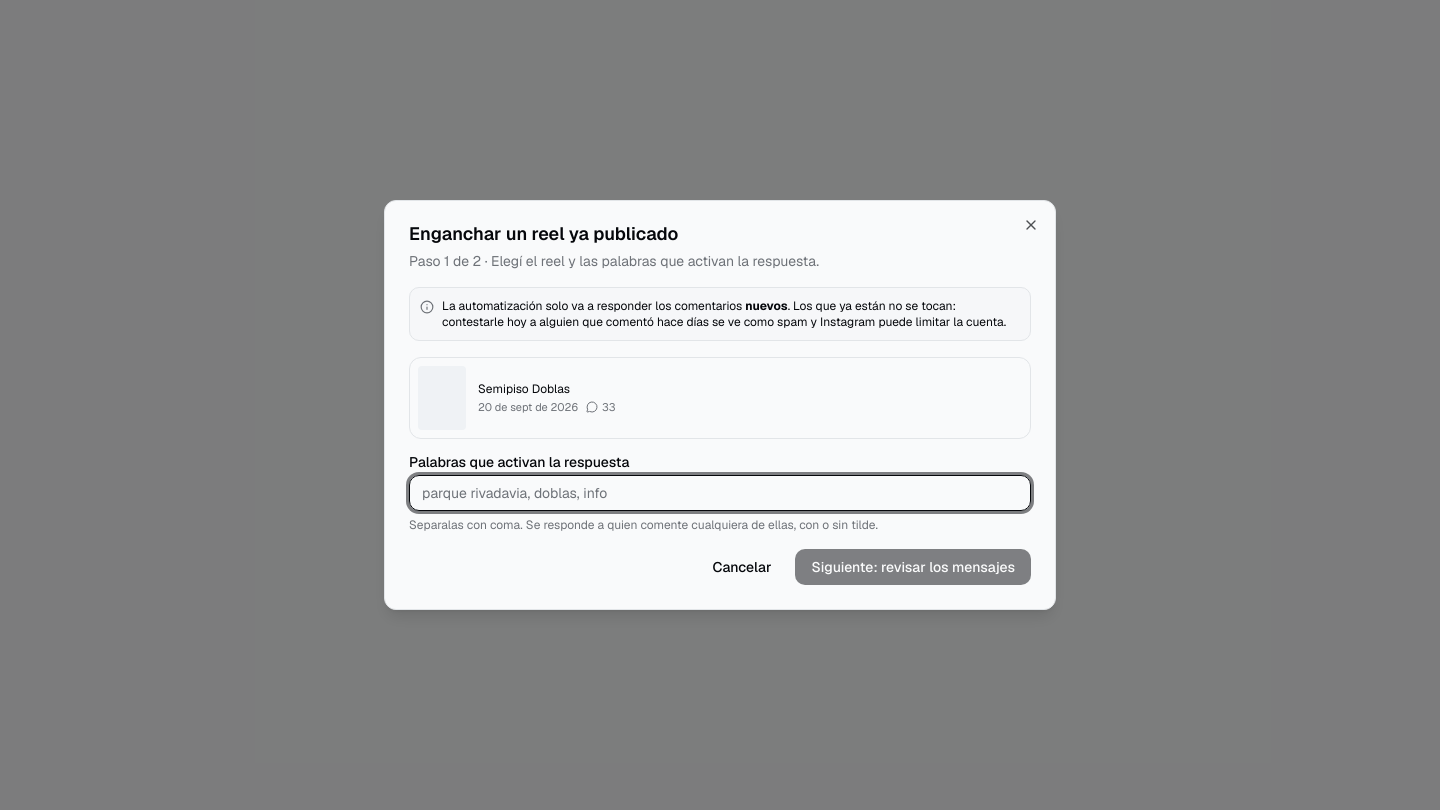
EngancharReelDialog › la revisión de mensajes es obligatoria: Enganchar recién aparece en el paso 2
The image size is (1440, 810).
Step 1. Click the button "Semipiso Doblas 20 de sept de 2026 33" → {"x": 442, "y": 398}, box 409,357 -> 1031,439
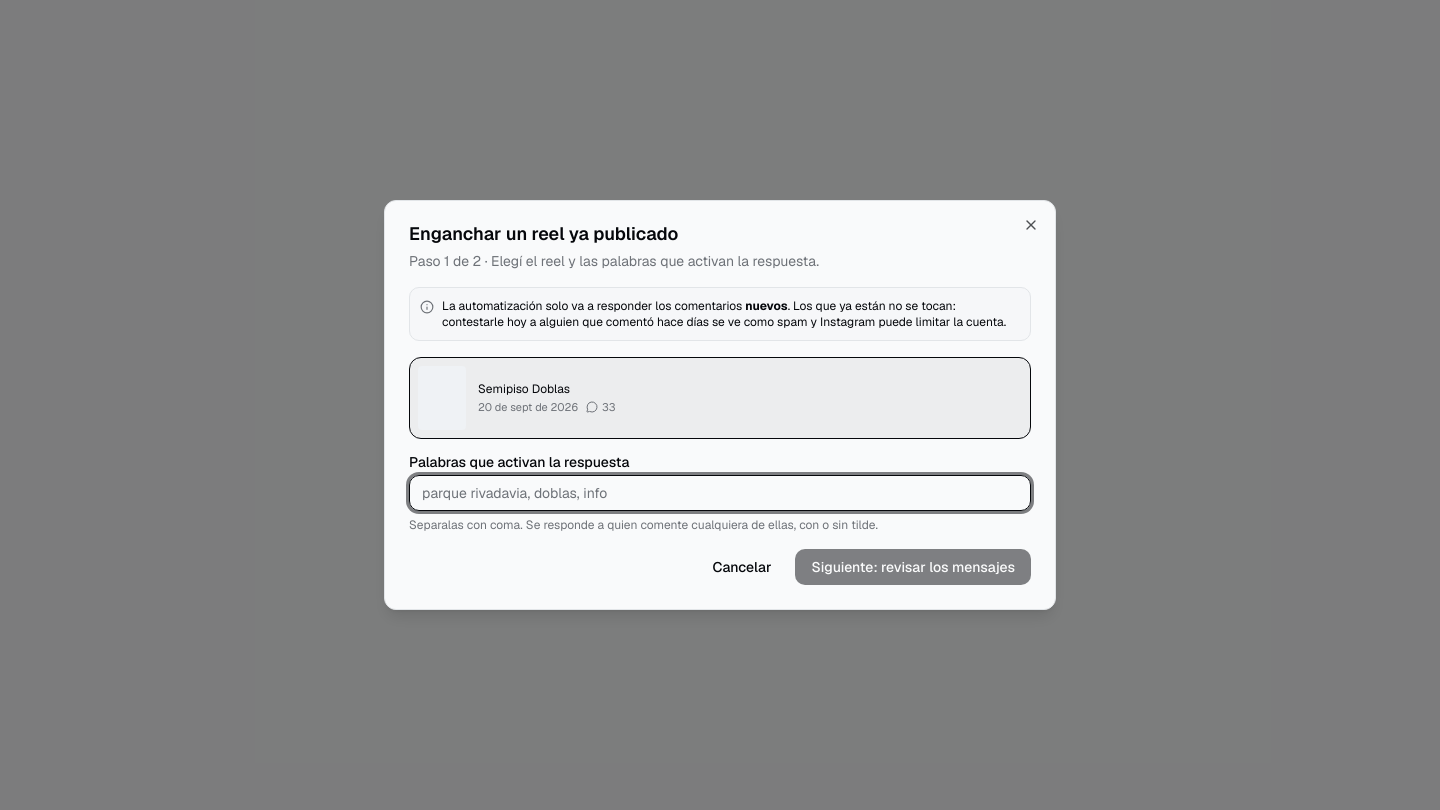
Step 2. Type "doblas, info" into the field labelled "Palabras que activan la respuesta" → {"x": 720, "y": 493}, box 409,475 -> 1031,511
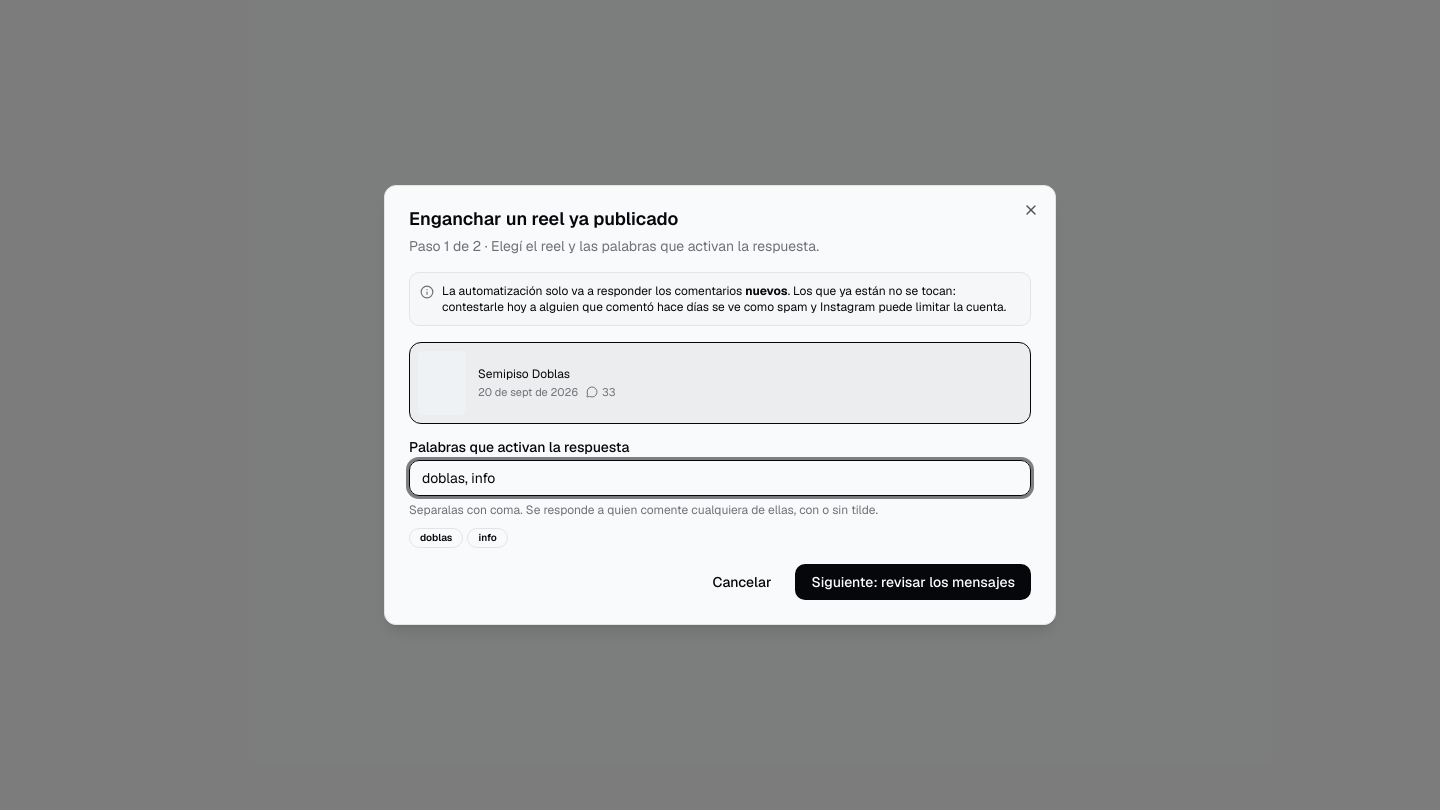
Step 3. Click the button "Siguiente: revisar los mensajes" → {"x": 913, "y": 582}, box 795,564 -> 1031,600
(page scrolled)
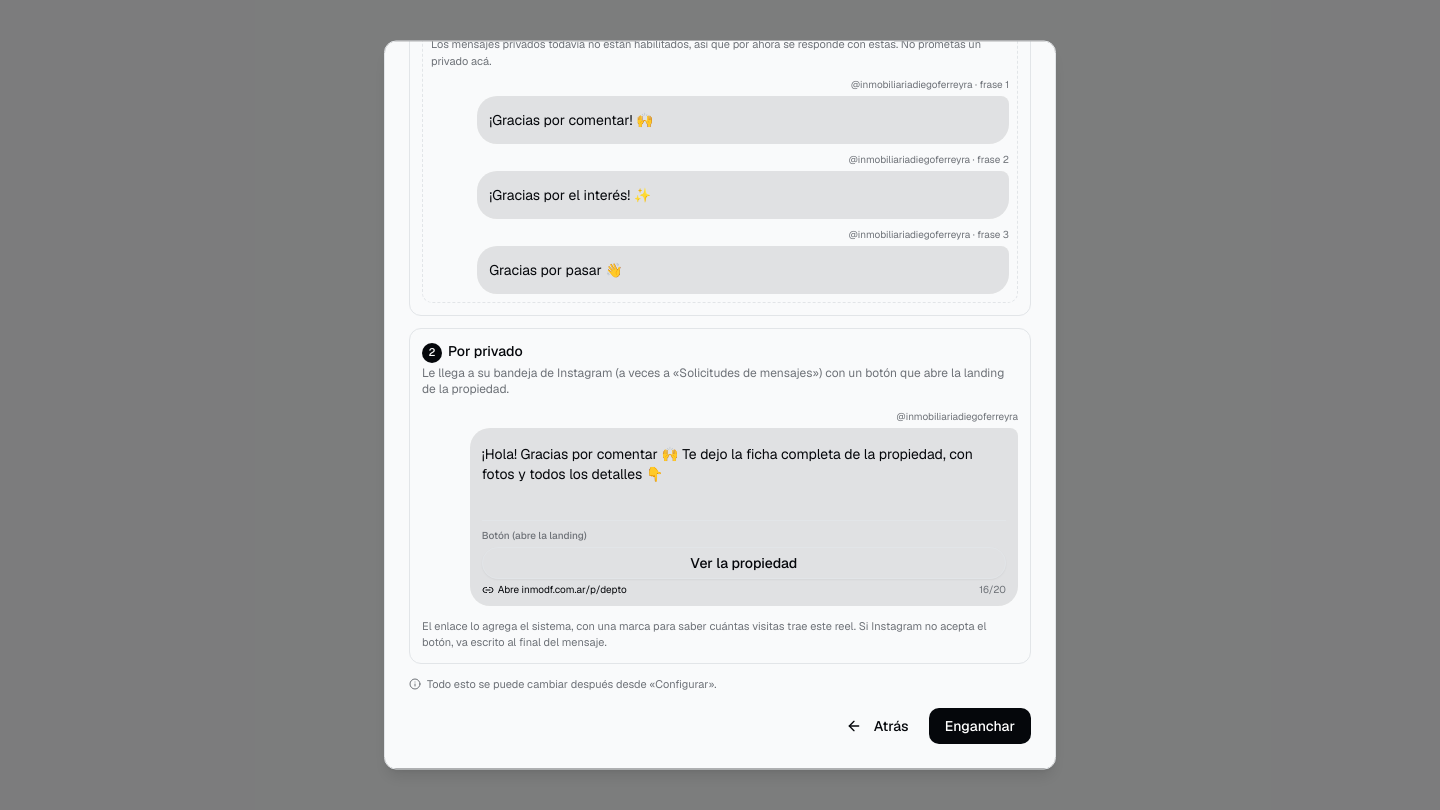
Expected: the button "Enganchar" is shown, 929,709 -> 1031,745
